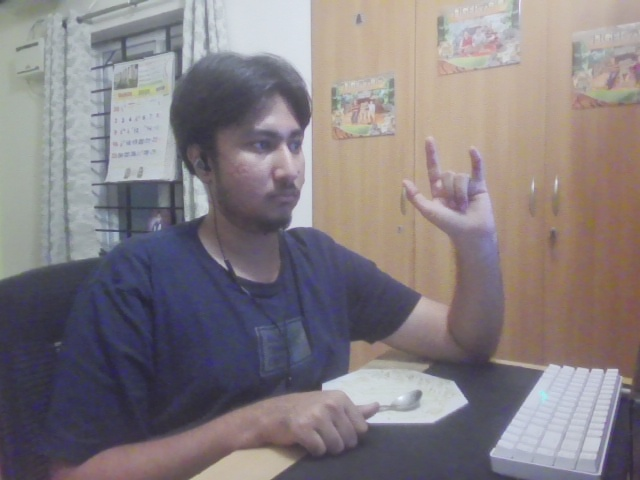iloveyou: (400, 135, 502, 246)
